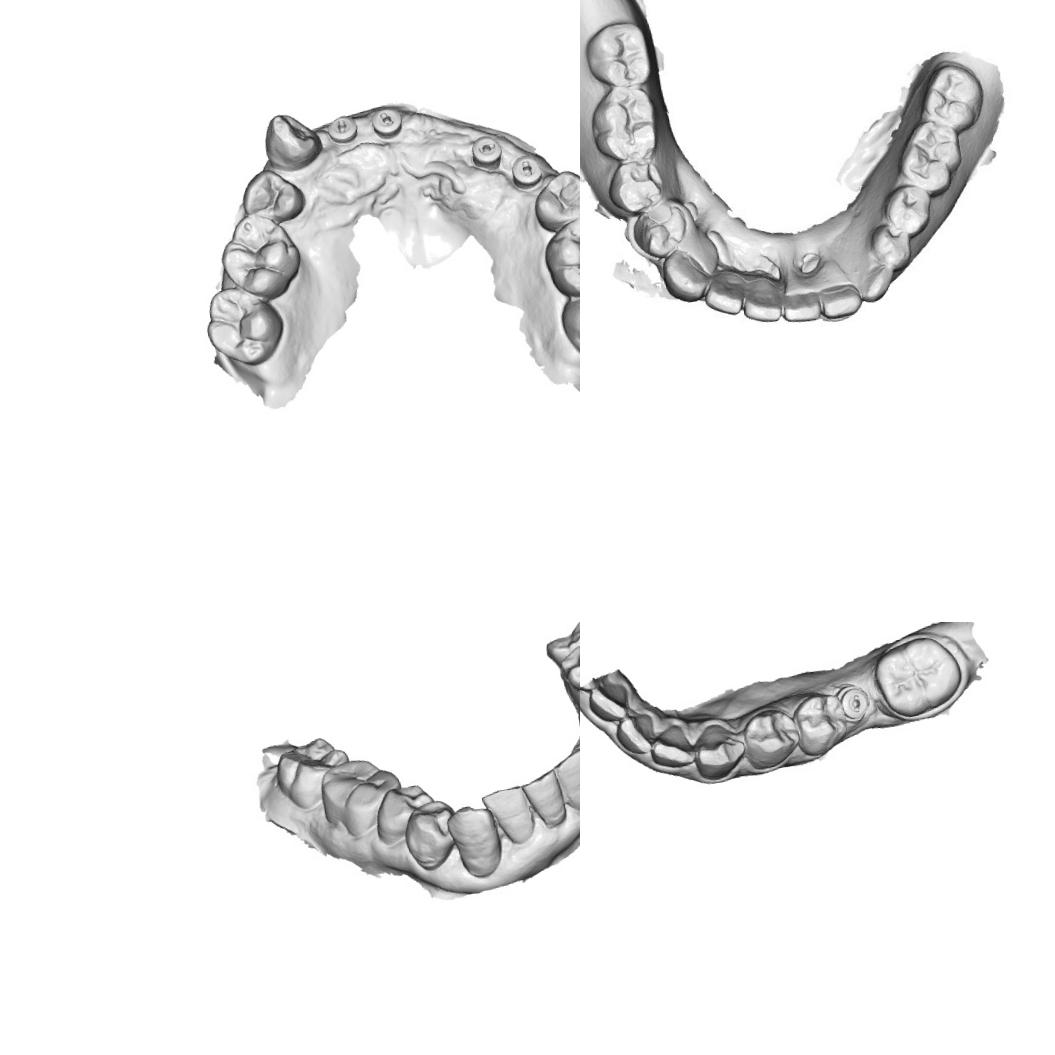canine: (443, 799, 507, 883), (258, 106, 326, 176), (684, 718, 747, 785), (661, 238, 722, 304), (850, 260, 894, 306)
implant_minus: (836, 679, 876, 728), (467, 132, 506, 175), (508, 151, 545, 193), (368, 104, 405, 142), (324, 112, 362, 148)
incisor: (478, 782, 538, 851), (519, 766, 569, 832), (644, 718, 700, 775), (739, 270, 790, 324), (584, 677, 636, 726), (613, 710, 662, 760), (547, 745, 580, 814), (779, 280, 824, 324), (820, 280, 862, 322), (706, 271, 747, 312), (567, 722, 580, 793)
molar: (870, 628, 969, 724), (213, 206, 306, 308), (199, 278, 290, 374), (316, 750, 408, 842), (271, 732, 356, 815), (585, 82, 661, 164), (914, 57, 985, 133), (580, 22, 650, 90), (896, 118, 964, 188), (538, 209, 580, 302), (554, 279, 580, 364)
premolar: (398, 796, 465, 875), (368, 780, 441, 850), (738, 701, 806, 774), (236, 163, 308, 228), (790, 687, 853, 759), (528, 166, 580, 236), (608, 155, 664, 212), (632, 197, 690, 252), (882, 185, 936, 235), (870, 222, 918, 271), (554, 635, 580, 693)
